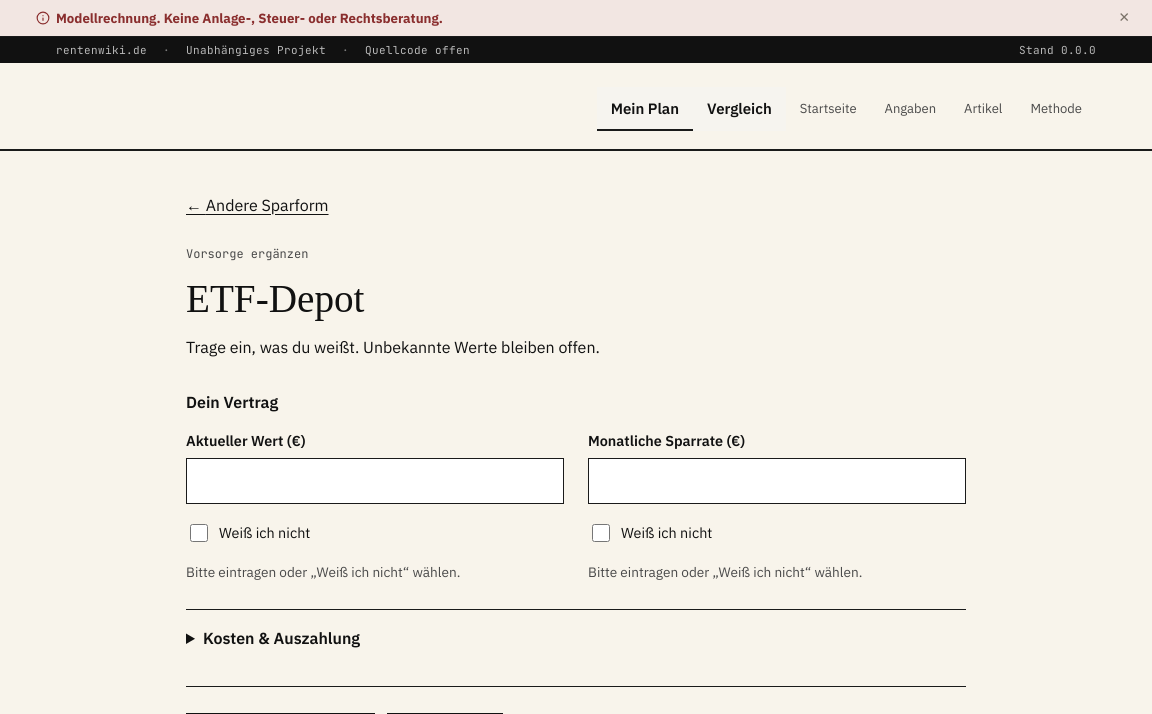
Scenario: adding a contract on /vorsorge/neu › keeps the contract when the save navigates straight back to the plan
This screenshot has width=1152, height=714.
Click the checkbox named "Aktueller Wert (€): Weiß ich nicht" at (199, 533), box [190,524,208,542]
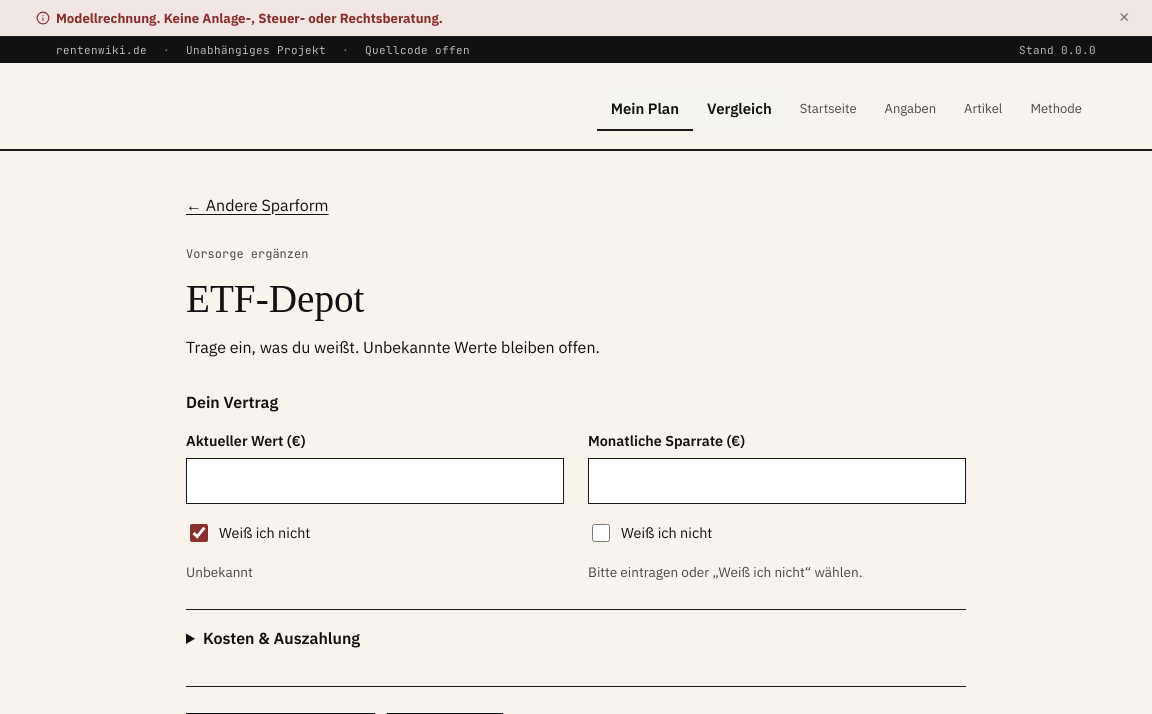
Type "150" into the number field labelled "Monatliche Sparrate (€)" at (777, 481), box [589,459,965,503]
(page scrolled)
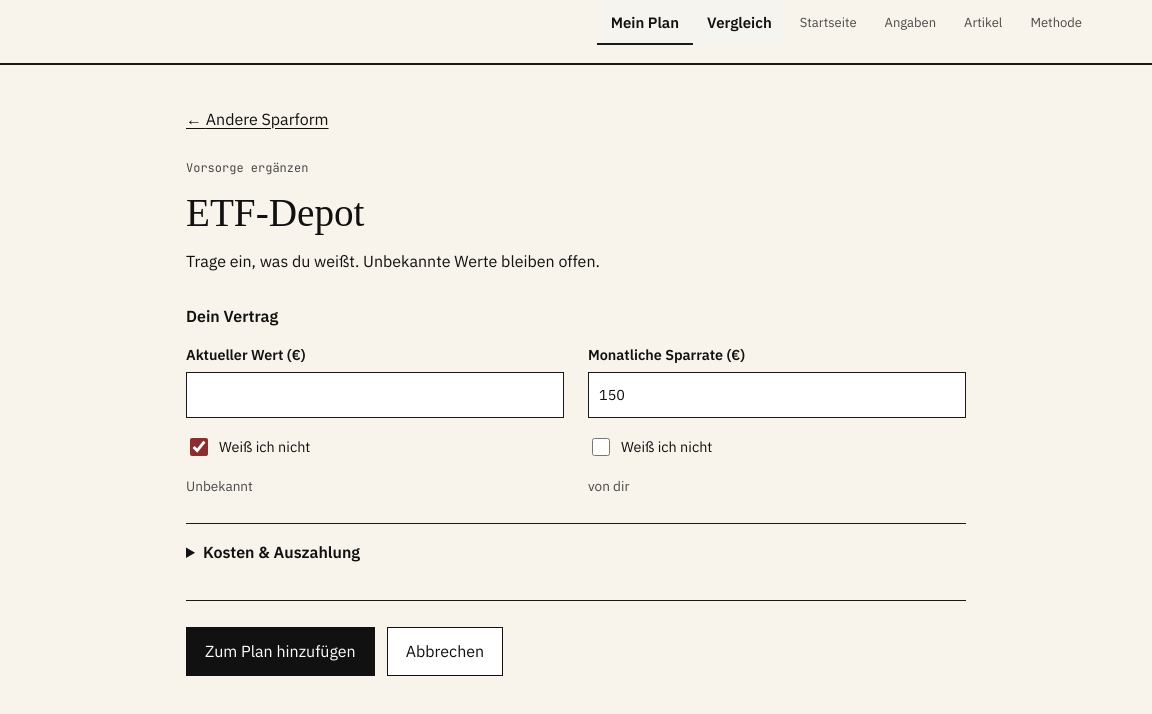
Click the button "Zum Plan hinzufügen" at (280, 652), box [186,627,375,676]
(page scrolled)
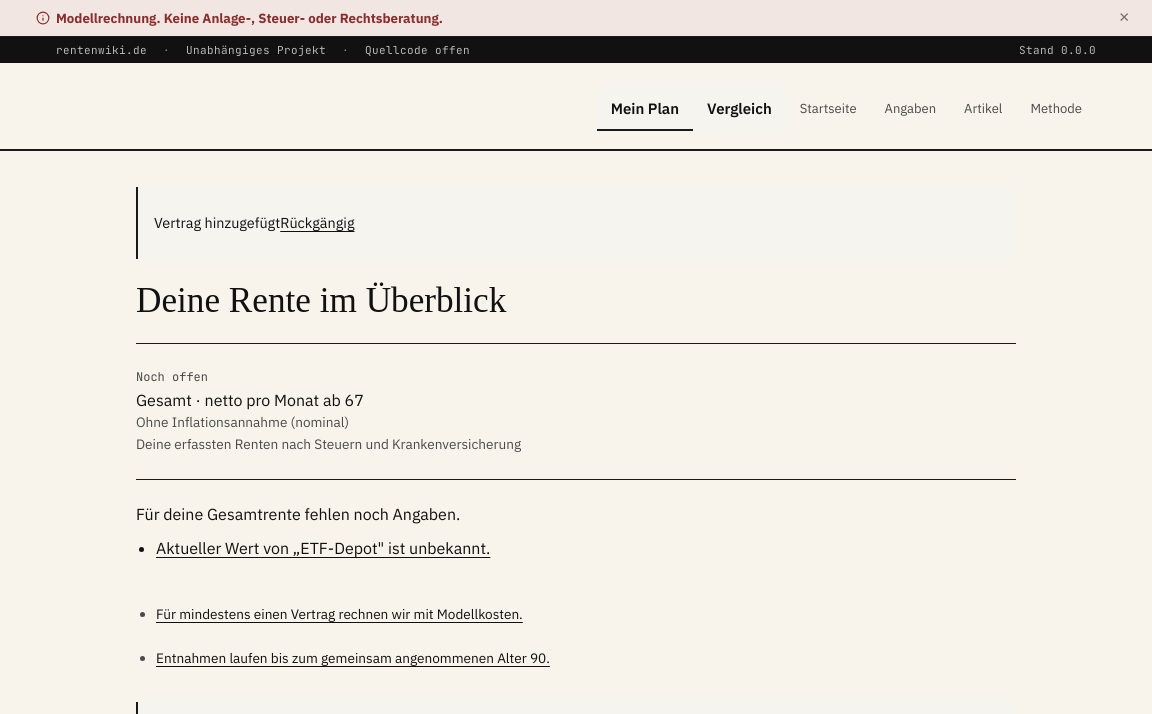
expect the button "Aktueller Wert von „ETF-Depot\" ist unbekannt." is shown: met, box [156,526,490,570]
